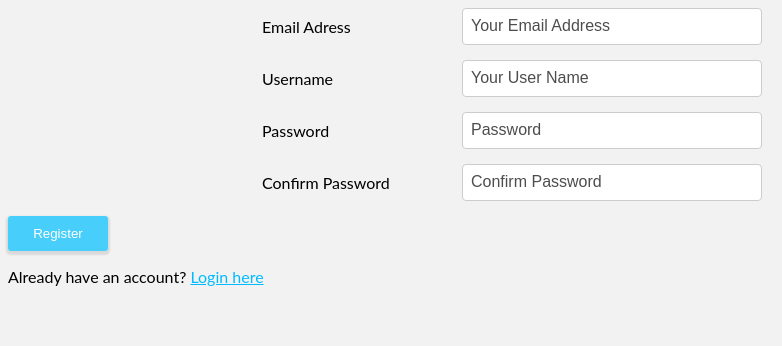
<Register /> › if the passwords don't match, set an error message
Type "password1" into the password field with test id "Register__passwordInput" at (612, 130), box [462,112,762,149]
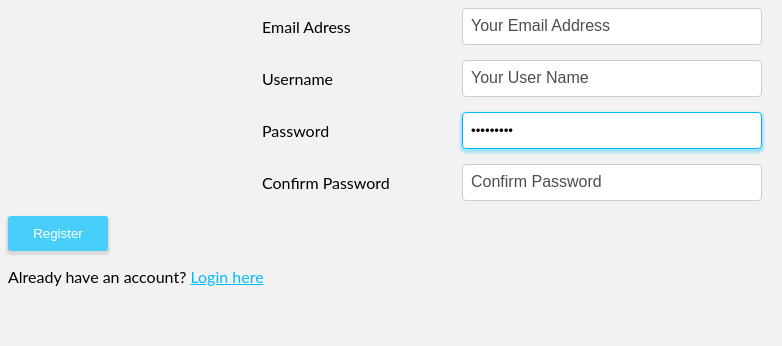
Type "password2" into the password field with test id "Register__confirmPWInput" at (612, 182), box [462,164,762,201]
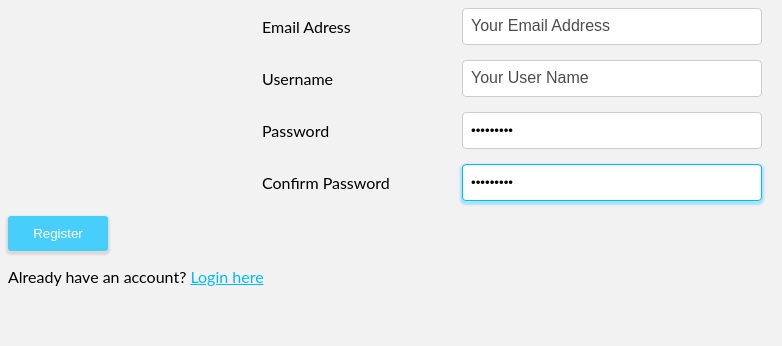
Click the button at (58, 234), box [8,216,108,251]
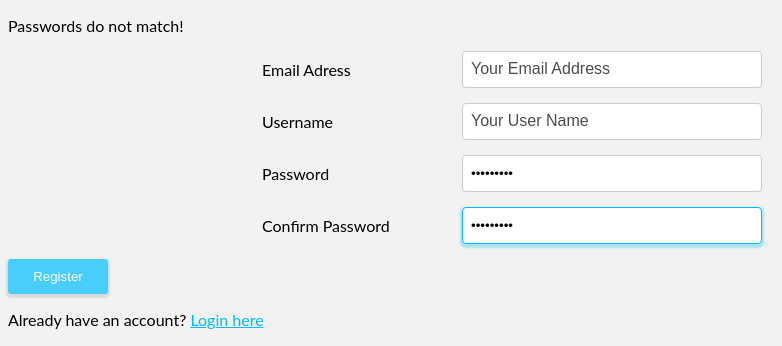
Result: the text "Passwords do not match!" is shown at [8,16,184,35]
